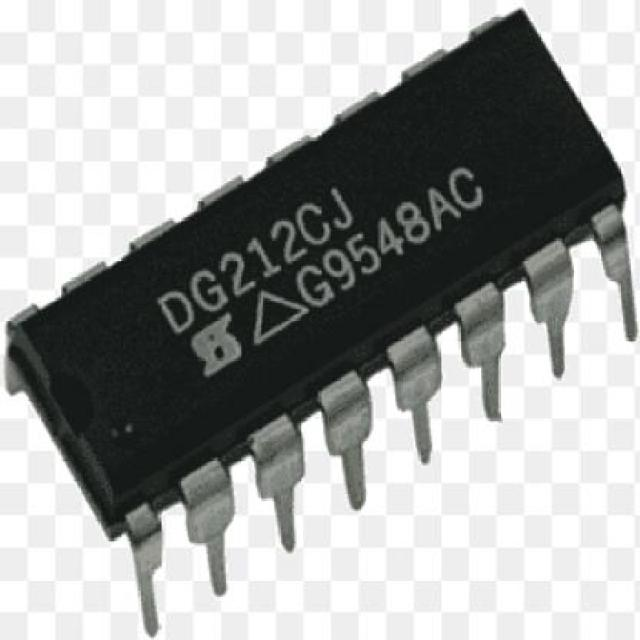IC chip: (6, 9, 628, 537)
